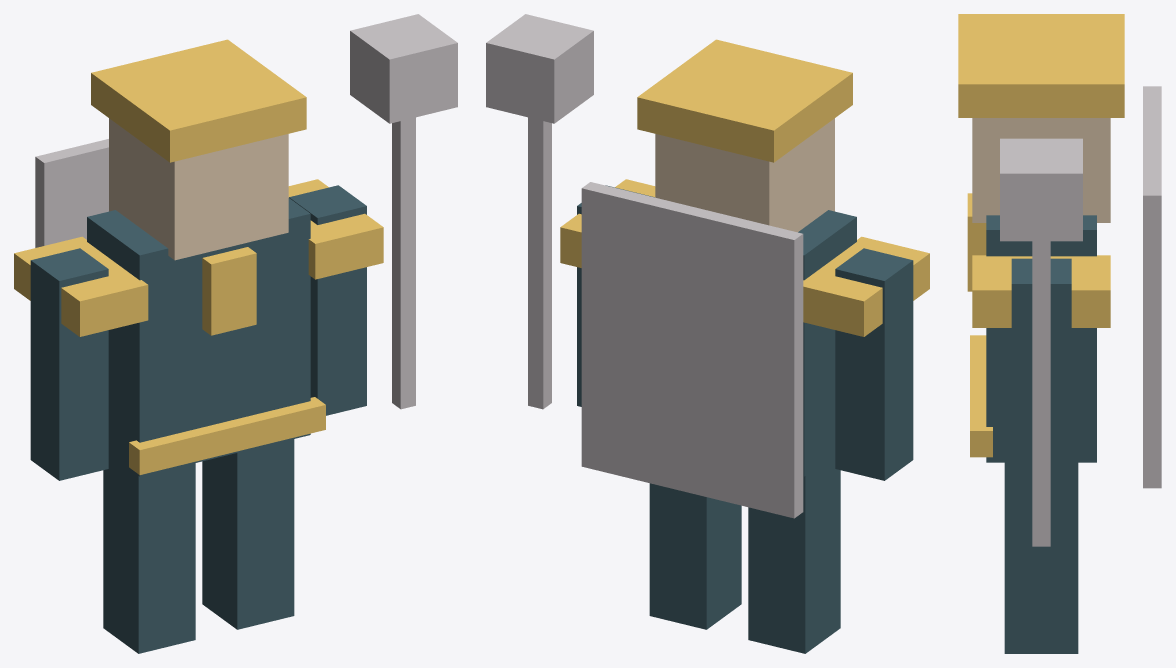
The model's file is 02_astra_cragwarden_broker_near_hollow.glb.
The picture shows the model from 3 angles, left to right: view 1: azimuth 30°, elevation 25°; view 2: azimuth 150°, elevation 25°; view 3: azimuth 270°, elevation 25°; orthographic projection. The views are drawn at different scales.
Visible parts, largest first — view 1: Astra Cragwarden, Broker near Hollow; view 2: Astra Cragwarden, Broker near Hollow; view 3: Astra Cragwarden, Broker near Hollow.
Boxes of the visible parts, x1,y1,x2,y2 form: Astra Cragwarden, Broker near Hollow: (14,14,457,653); Astra Cragwarden, Broker near Hollow: (486,14,929,653); Astra Cragwarden, Broker near Hollow: (958,14,1161,653).
Size of the model in its own units: 1.12 by 1.46 by 0.4748.
